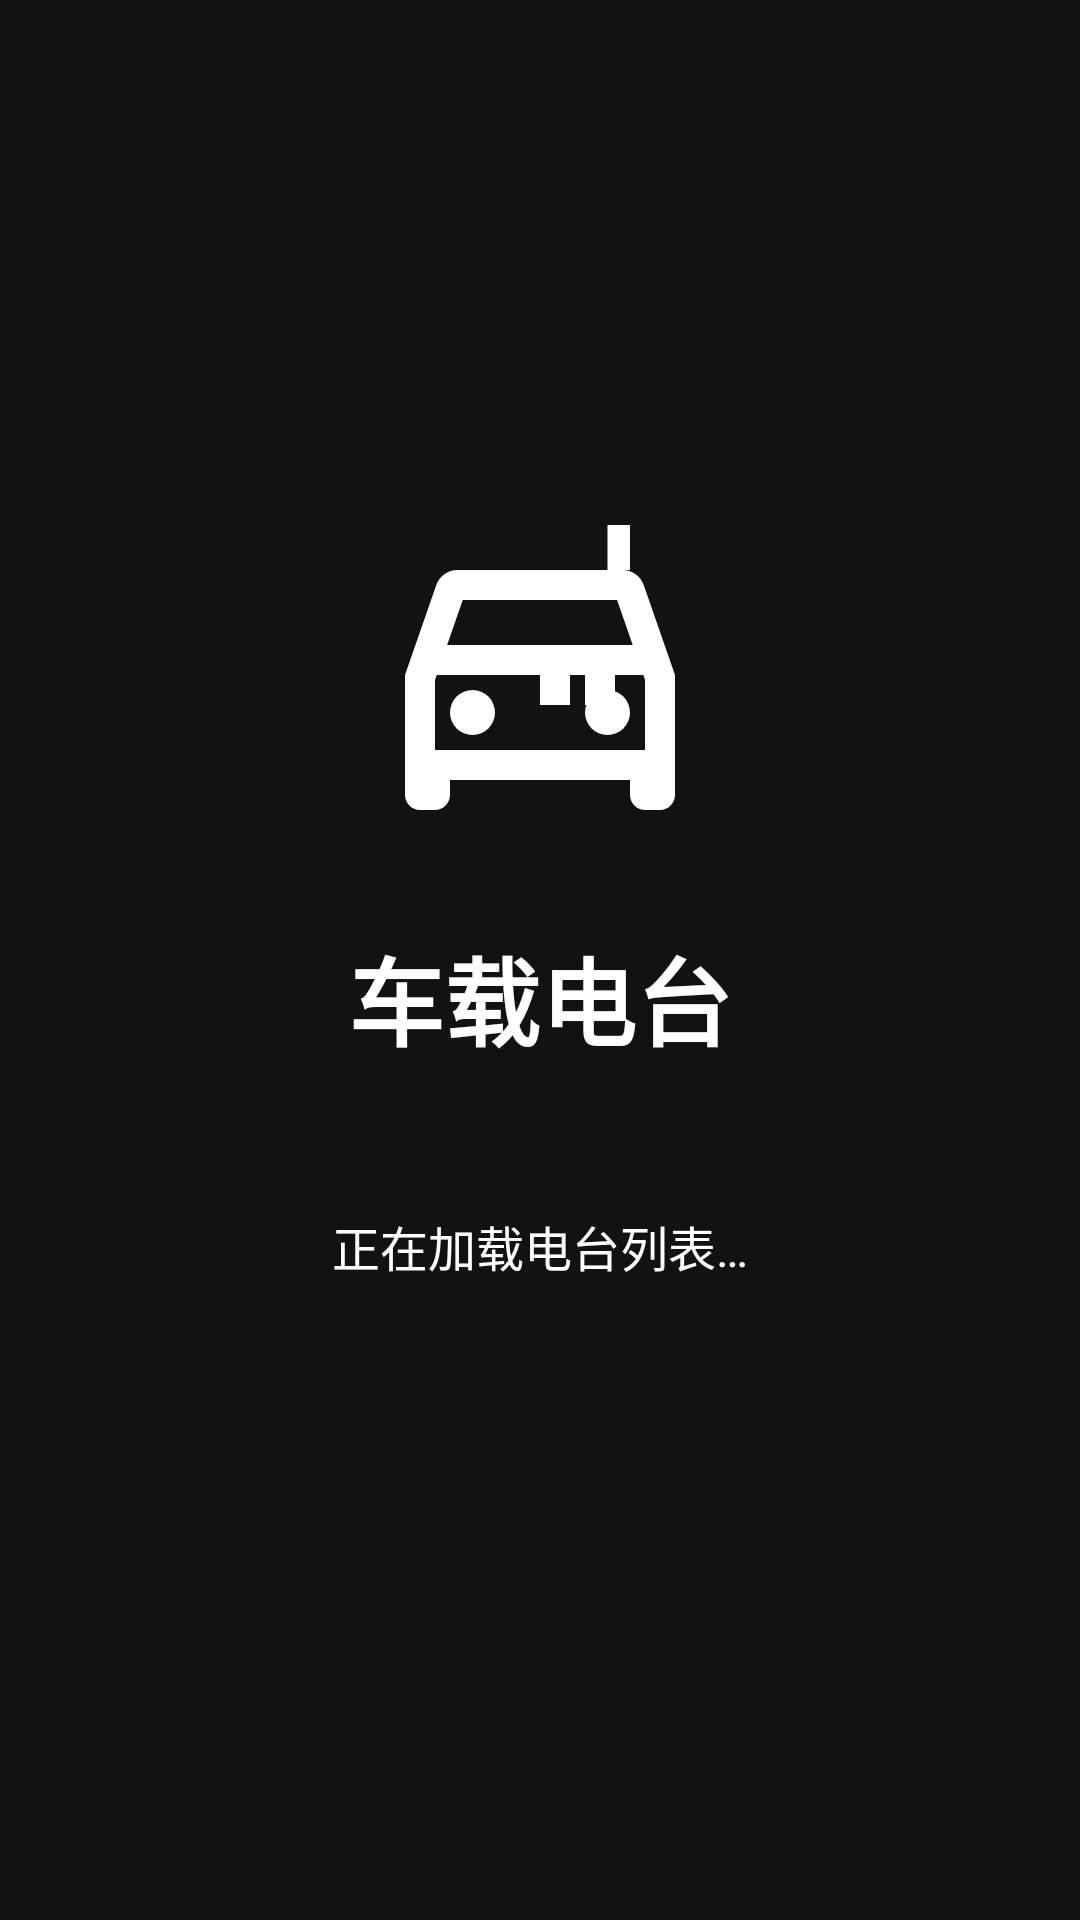

Icons on this 1080px x 1920px Android screen, each with its box as (left=x1, top=y1, right=x2, bottom=y2):
radio: (left=405, top=525, right=675, bottom=810)
